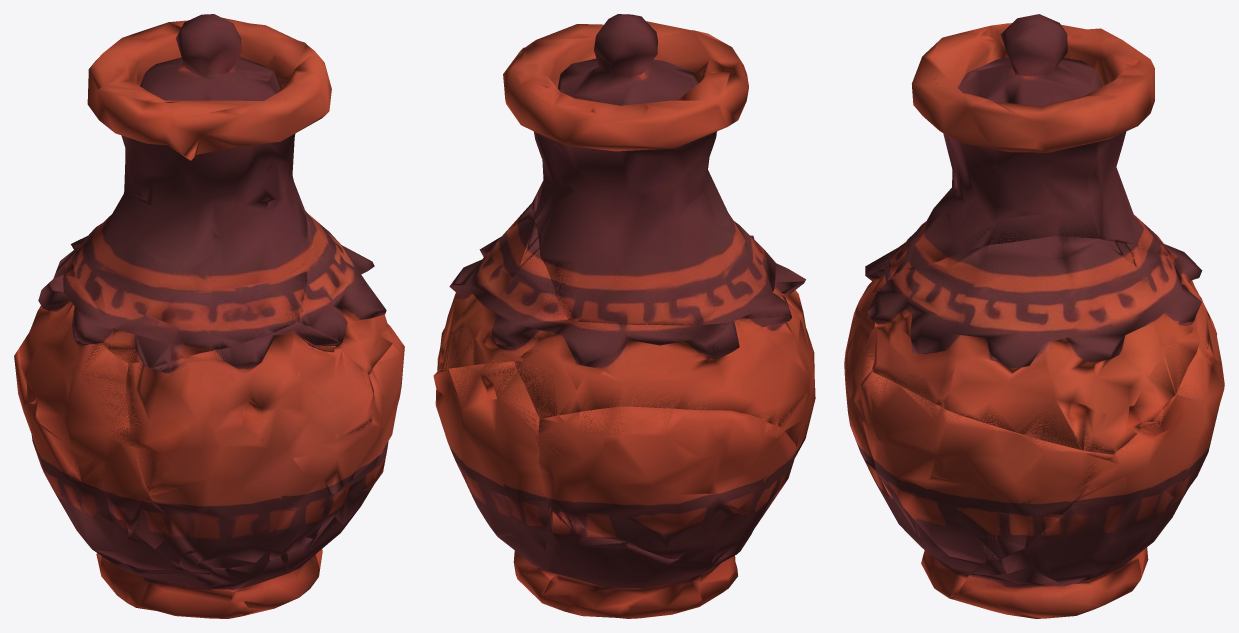
The model's file is cr_urn-moEnWS25.glb.
3 renders of one model, left to right at view 1: azimuth 30°, elevation 25°; view 2: azimuth 150°, elevation 25°; view 3: azimuth 270°, elevation 25°, orthographic.
Visible parts, largest first — view 1: frag_0, frag_7, whole, frag_4, frag_8, frag_3, frag_2, frag_1, frag_5; view 2: frag_0, frag_3, frag_4, whole, frag_6, frag_8, frag_2; view 3: frag_8, frag_0, frag_6, frag_5, whole, frag_7, frag_1, frag_4.
Part boxes in pixels (x1=…): frag_0: x1=63, y1=14, x2=331, y2=367; frag_7: x1=126, y1=322, x2=374, y2=569; whole: x1=18, y1=183, x2=403, y2=616; frag_4: x1=19, y1=236, x2=211, y2=572; frag_8: x1=299, y1=211, x2=395, y2=374; frag_3: x1=14, y1=348, x2=192, y2=572; frag_2: x1=90, y1=547, x2=259, y2=618; frag_1: x1=209, y1=516, x2=345, y2=609; frag_5: x1=334, y1=334, x2=404, y2=523; frag_0: x1=503, y1=14, x2=805, y2=325; frag_3: x1=538, y1=406, x2=796, y2=559; frag_4: x1=514, y1=304, x2=815, y2=456; whole: x1=435, y1=185, x2=814, y2=611; frag_6: x1=433, y1=361, x2=556, y2=603; frag_8: x1=437, y1=189, x2=567, y2=371; frag_2: x1=542, y1=510, x2=740, y2=618; frag_8: x1=867, y1=236, x2=1201, y2=454; frag_0: x1=883, y1=14, x2=1172, y2=279; frag_6: x1=952, y1=337, x2=1224, y2=618; frag_5: x1=861, y1=371, x2=1112, y2=563; whole: x1=848, y1=192, x2=1221, y2=614; frag_7: x1=844, y1=259, x2=889, y2=506; frag_1: x1=889, y1=506, x2=980, y2=599; frag_4: x1=1164, y1=244, x2=1210, y2=320.
Bounding box in the file's own units: 0.8293 × 1.35 × 0.831.
1 material, 1 textured.
